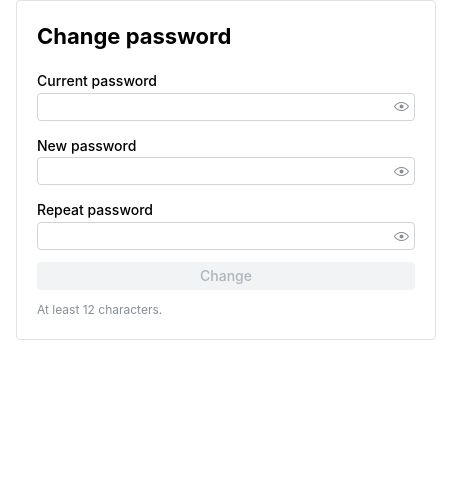
it: ChangePasswordPage: клієнтська перевірка політики пароля › інша відмова (наприклад, невірний поточний пароль) — банером, не під полем нового пароля
Type "WrongPassword1" into the password field labelled "Current password" at {"x": 226, "y": 107}, box [38,94,414,120]
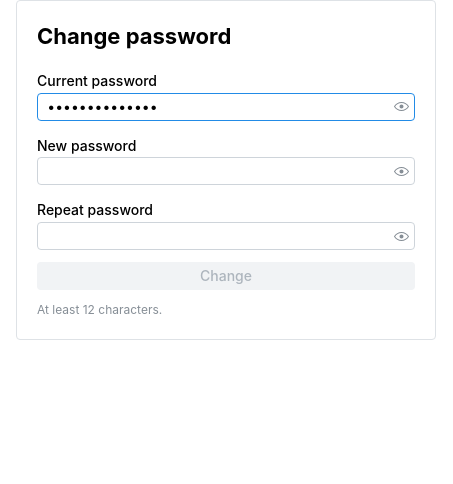
Type "NewPassword123" into the password field labelled "New password" at {"x": 226, "y": 171}, box [38,158,414,184]
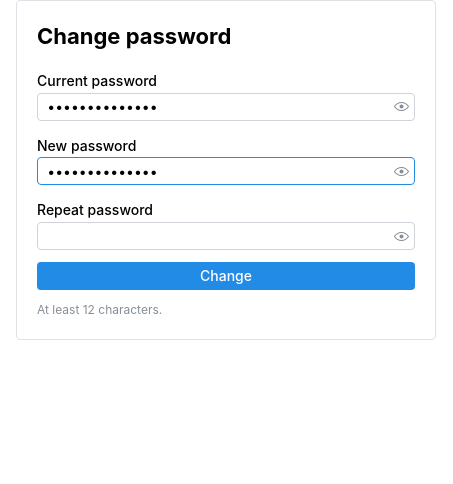
Type "NewPassword123" into the password field labelled "Repeat password" at {"x": 226, "y": 236}, box [38,223,414,249]
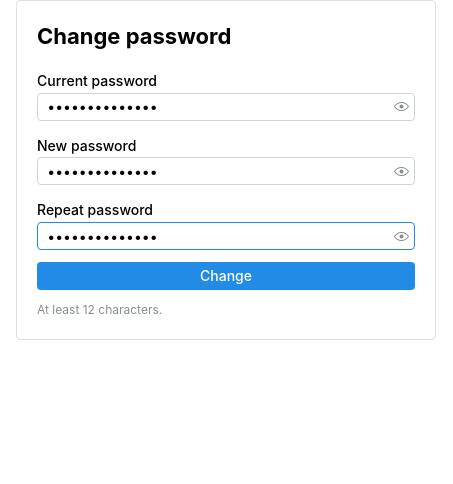
Click the button "Change" at {"x": 226, "y": 276}, box [37,262,415,290]
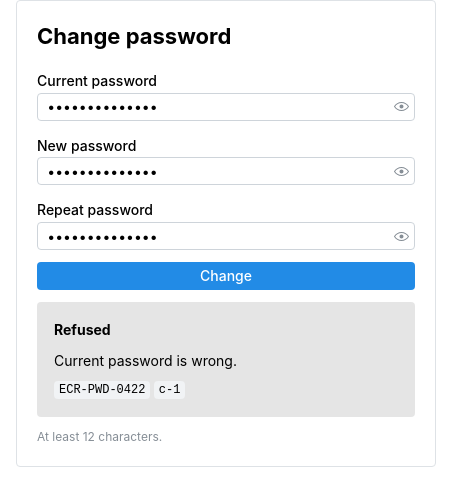
Expected: the field labelled "New password" does not show "Current password is wrong."
Now the message shows "Current password is wrong.", box [54,352,237,369]
